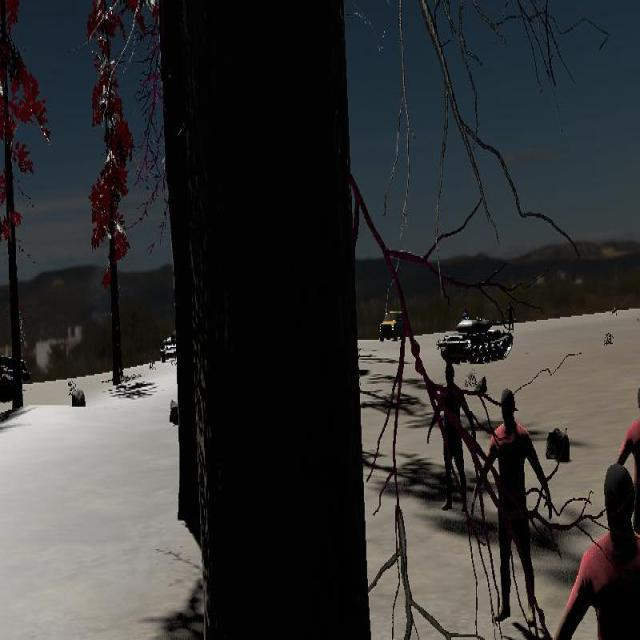Human: (613, 378, 640, 560)
Tank: (437, 311, 513, 365)
car: (378, 309, 410, 343)
